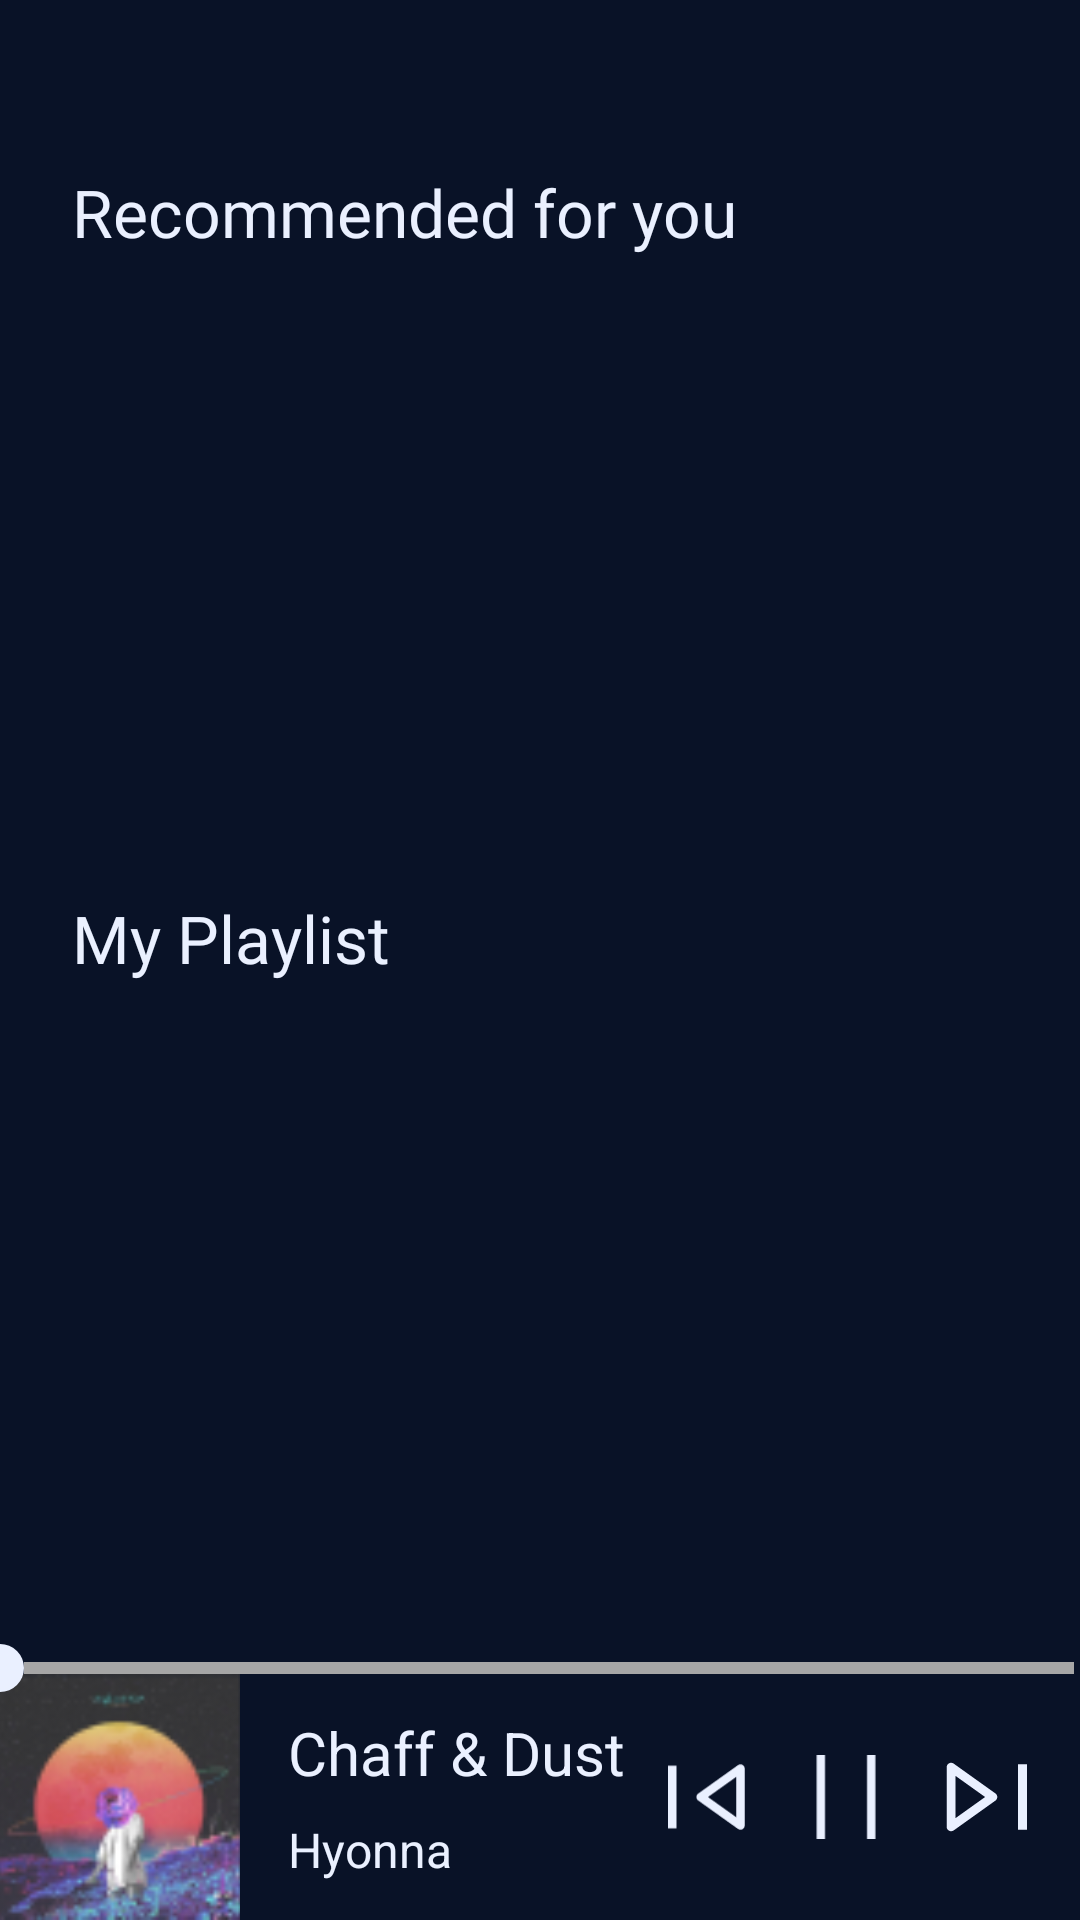

Icon click points for this 1080x1920 phone screenshot, format point (x, y):
next: point (986, 1797)
pause: point (846, 1797)
previous: point (706, 1797)
